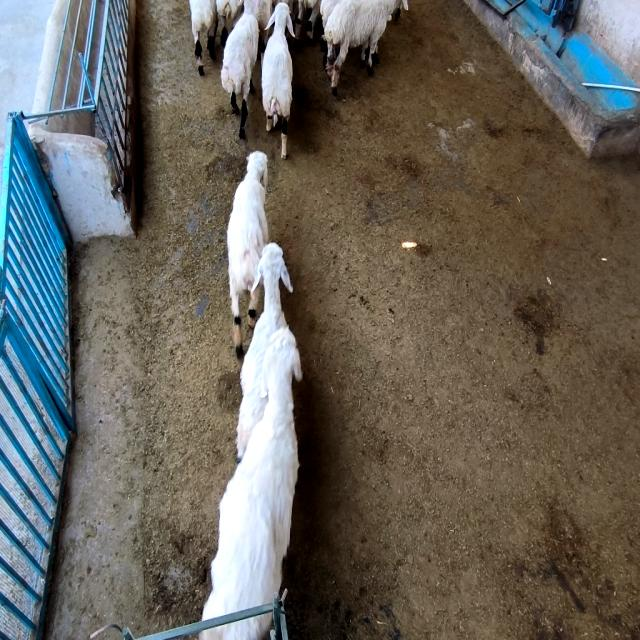sheep: (202, 328, 301, 619), (236, 243, 292, 459), (228, 152, 269, 360), (325, 0, 409, 94), (261, 2, 295, 158), (221, 13, 259, 138), (191, 0, 218, 74), (244, 0, 272, 59), (200, 615, 271, 638), (216, 0, 243, 48), (295, 0, 321, 48), (320, 0, 341, 28), (249, 292, 257, 328)
